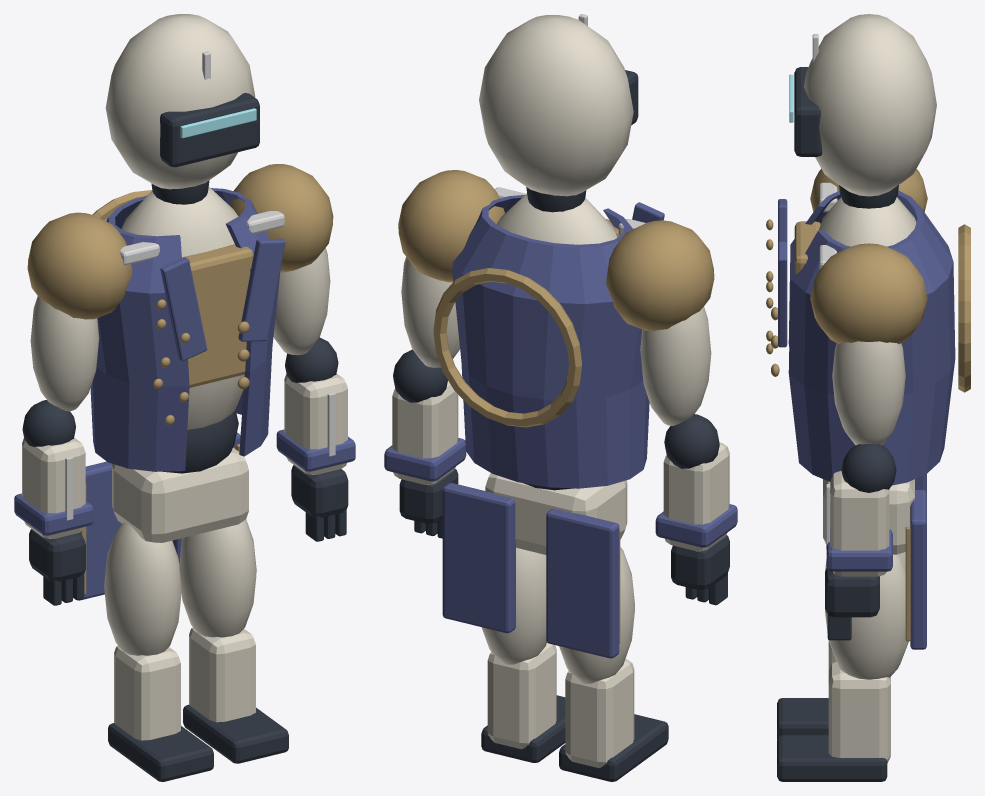
The model's file is forecaster.glb.
The picture shows the model from 3 angles, left to right: view 1: azimuth 30°, elevation 25°; view 2: azimuth 150°, elevation 25°; view 3: azimuth 270°, elevation 25°; orthographic projection. The views are drawn at different scales.
Visible parts, largest first — view 1: Celestial navigator, Helmet, Pelvis, Shoulder R, Thigh R, Thigh L, Articulated thorax, Sternum shield, Shoulder L, Upper arm R, Shin R, Shin L (+20 smaller); view 2: Celestial navigator, Helmet, Celestial navigator articulated skirt R, Celestial navigator articulated skirt L, Shoulder R, Shoulder L, Dorsal astrolabe, Upper arm R, Shin R, Shin L, Pelvis, Bracer R (+14 smaller); view 3: Celestial navigator, Helmet, Shoulder L, Upper arm L, Shin L, Thigh L, Bracer L, Foot L, Articulated thorax, Celestial navigator articulated skirt L, Hand L, Elbow L (+12 smaller).
Part boxes in pixels (box(x1,y1,x2,y2)): Celestial navigator: box(90, 188, 280, 471); Helmet: box(105, 14, 255, 189); Pelvis: box(112, 447, 248, 542); Shoulder R: box(27, 212, 132, 319); Thigh R: box(104, 523, 181, 655); Thigh L: box(179, 519, 256, 637); Articulated thorax: box(121, 187, 244, 429); Sternum shield: box(182, 244, 253, 387); Shoulder L: box(230, 164, 333, 272); Upper arm R: box(30, 296, 99, 411); Shin R: box(114, 646, 180, 740); Shin L: box(189, 627, 255, 722); Celestial navigator: box(452, 195, 649, 488); Helmet: box(479, 15, 633, 196); Celestial navigator articulated skirt R: box(546, 508, 619, 658); Celestial navigator articulated skirt L: box(442, 483, 515, 633); Shoulder R: box(606, 220, 714, 330); Shoulder L: box(398, 170, 504, 282); Dorsal astrolabe: box(433, 268, 581, 427); Upper arm R: box(640, 307, 711, 425); Shin R: box(565, 659, 634, 767); Shin L: box(487, 643, 556, 749); Pelvis: box(485, 473, 627, 554); Bracer R: box(663, 442, 729, 551); Celestial navigator: box(788, 190, 955, 485); Helmet: box(804, 14, 936, 196); Shoulder L: box(810, 243, 927, 344); Upper arm L: box(832, 341, 905, 445); Shin L: box(828, 661, 890, 763); Thigh L: box(825, 554, 908, 679); Bracer L: box(830, 470, 889, 576); Foot L: box(777, 735, 887, 781); Articulated thorax: box(818, 197, 916, 246); Celestial navigator articulated skirt L: box(910, 490, 926, 649); Hand L: box(825, 568, 879, 617); Elbow L: box(841, 444, 896, 492).
Bounding box in the file's own units: 1 × 2.2 × 0.5573.
